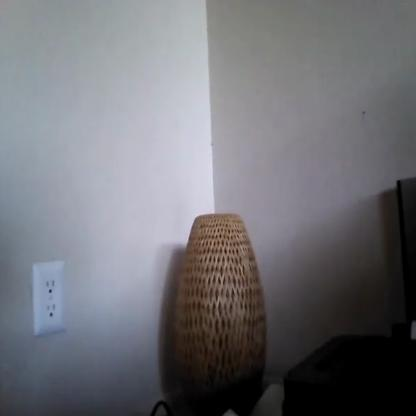OUTLET: (32, 259, 66, 335)
